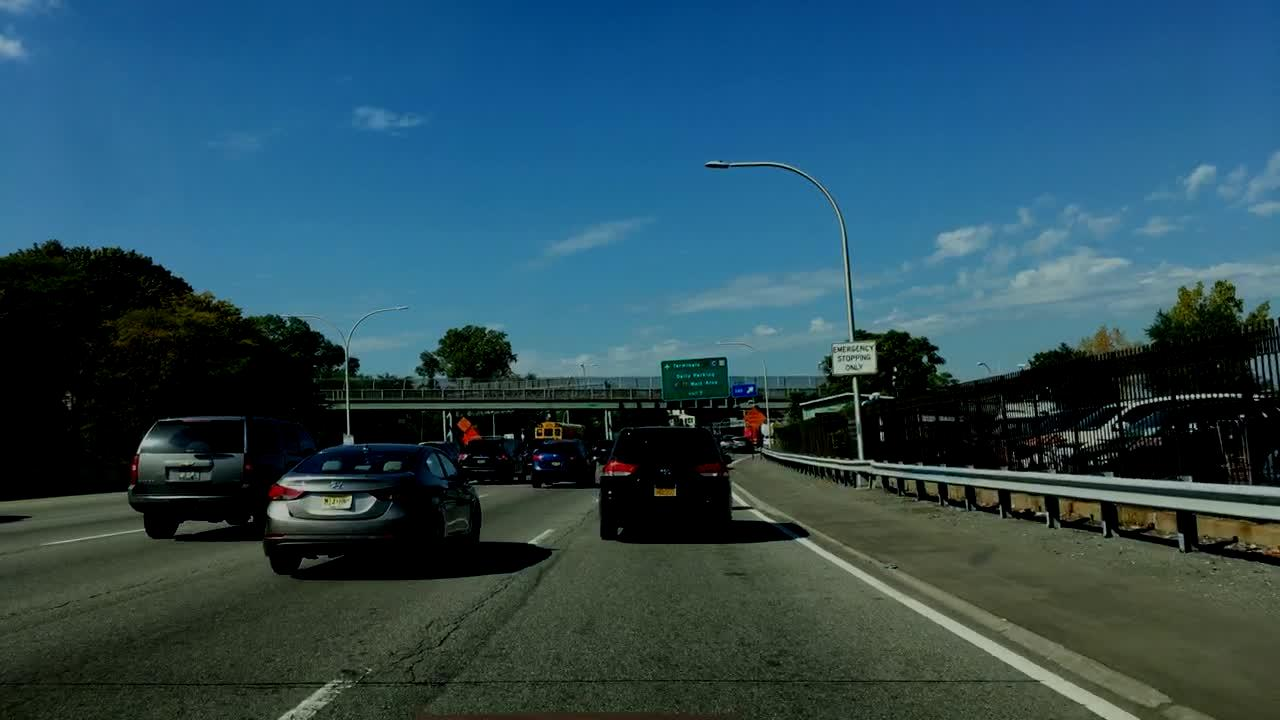Hyundai: (328, 479, 348, 490)
chevrolet: (177, 458, 197, 470)
